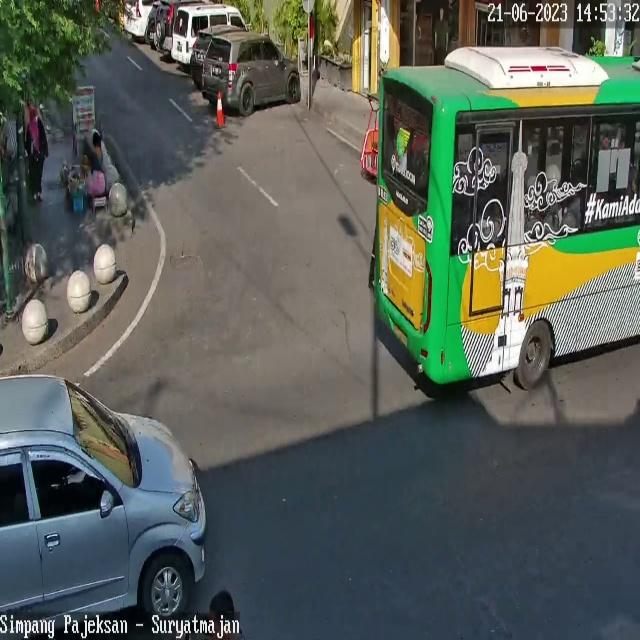car: (373, 46, 640, 388)
motorcycle: (0, 373, 207, 640), (203, 31, 300, 116), (172, 4, 247, 64), (190, 28, 213, 83), (154, 0, 175, 54), (124, 0, 151, 35)
